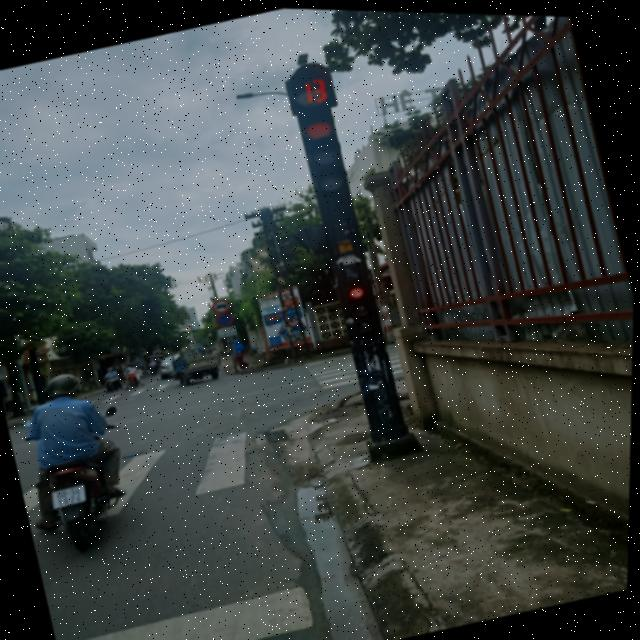Red: (292, 101, 356, 204), (338, 270, 389, 342)
